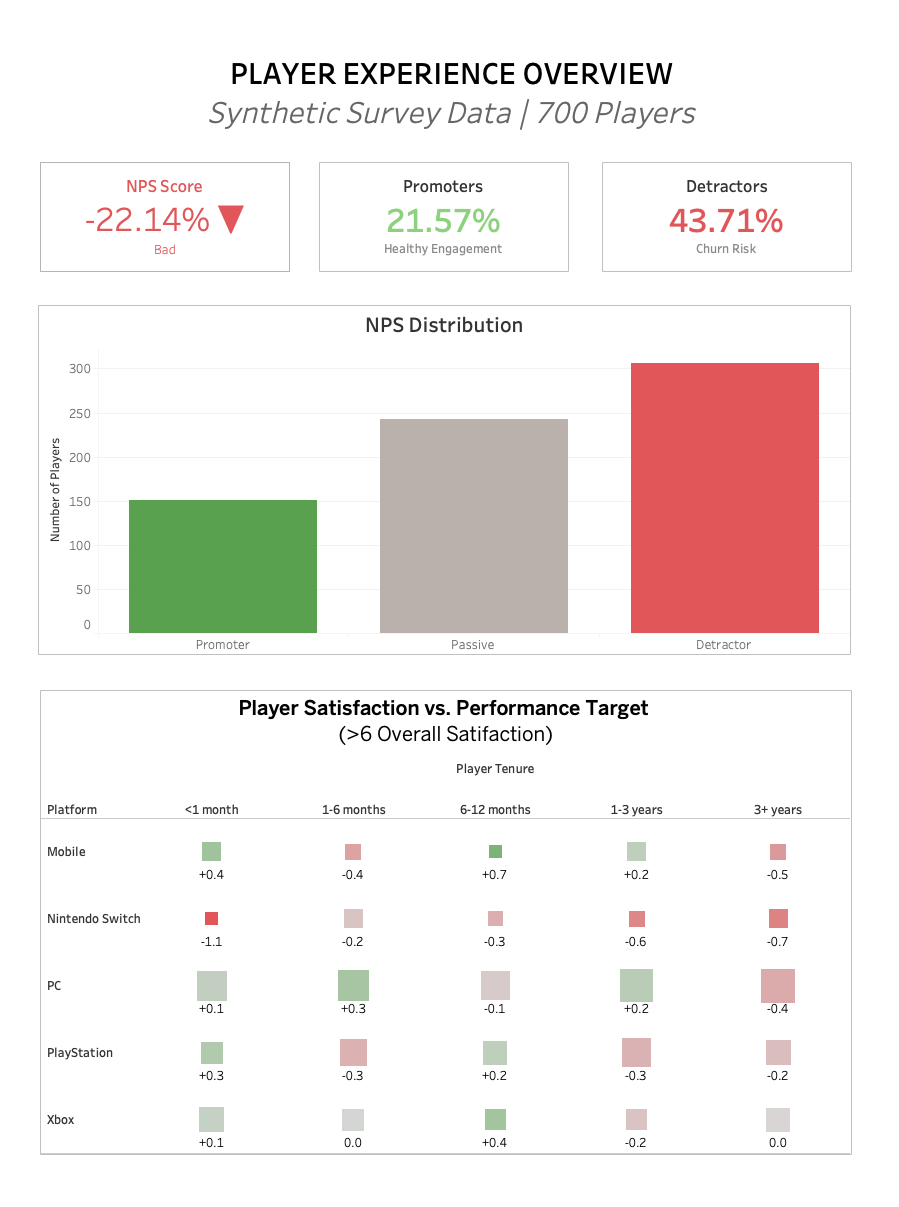

What the dashboard file says about the page in this screenshot:
{"tool":"tableau","page":{"name":"Dashboard 1","canvas":[900,1200],"ordinal":0},"visuals":[{"type":"worksheet","title":"KPI - NPS","mark":"Text","box":[36,200,250,110]},{"type":"worksheet","title":"KPI - Promoters","mark":"Automatic","box":[315,200,250,110]},{"type":"worksheet","title":"KPI - Detractors","mark":"Automatic","box":[598,200,250,110]},{"type":"worksheet","title":"NPS Distribution","mark":"Automatic","rows":["nps_score"],"cols":["Calculation_0200288250642432"],"box":[34,343,813,350]},{"type":"worksheet","title":"Heatmap","mark":"Square","rows":["platform"],"cols":["player_tenure"],"box":[36,728,812,465]}]}

Visuals, with their boxes in screenshot pixels (x1, y1, x2, y2), scaled from the page's 900x1200 canvas onto the 899x1207 screenshot:
"KPI - NPS" worksheet (Text marks): <region>36, 201, 286, 312</region>
"KPI - Promoters" worksheet: <region>315, 201, 564, 312</region>
"KPI - Detractors" worksheet: <region>597, 201, 847, 312</region>
"NPS Distribution" worksheet: <region>34, 345, 846, 697</region>
"Heatmap" worksheet (Square marks): <region>36, 732, 847, 1200</region>
